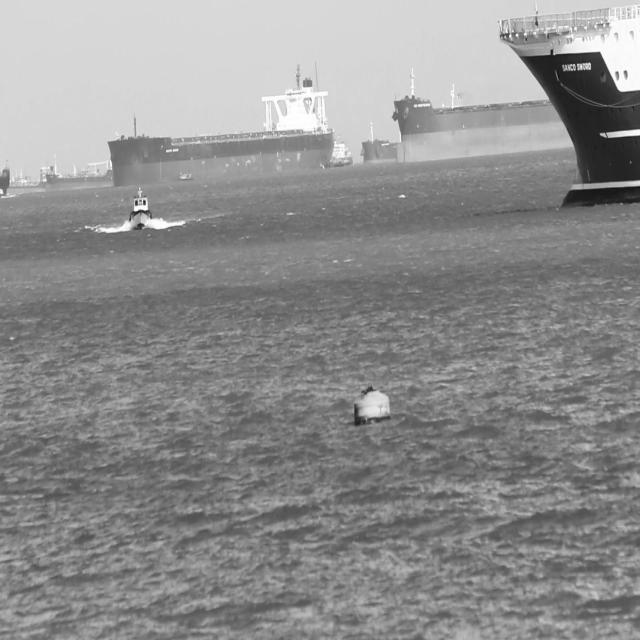buoy: (351, 380, 392, 428)
ship: (500, 0, 639, 213), (106, 66, 334, 190), (391, 65, 578, 167), (44, 158, 112, 192), (360, 121, 403, 166), (1, 164, 42, 199), (124, 185, 150, 234), (325, 138, 358, 170), (1, 184, 5, 201)
